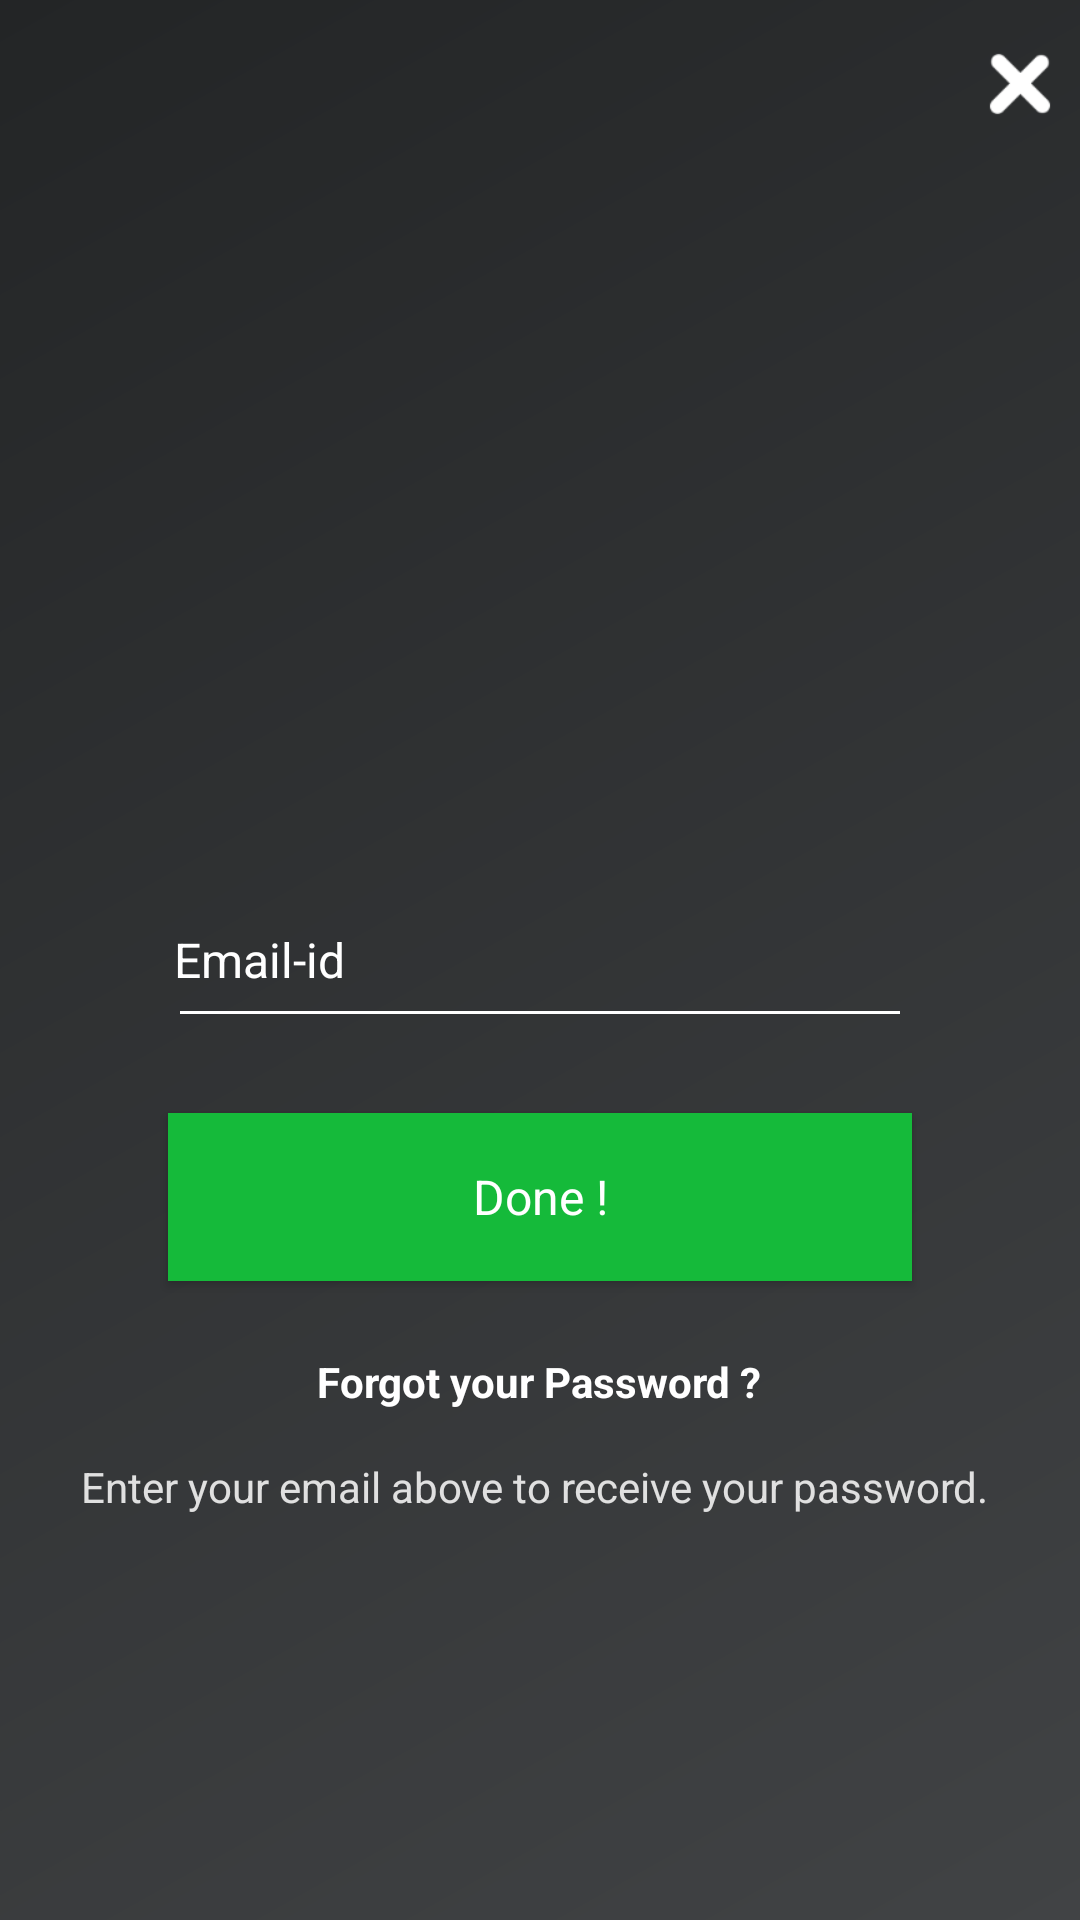

Icons on this 1080×1920 Android screen, each with the point to tap as (x,y):
cancel: (1020,84)
